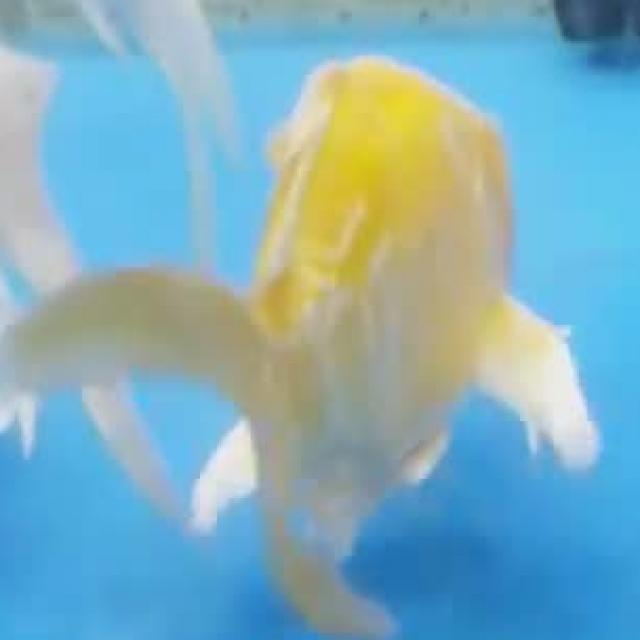fish: (0, 2, 638, 640)
